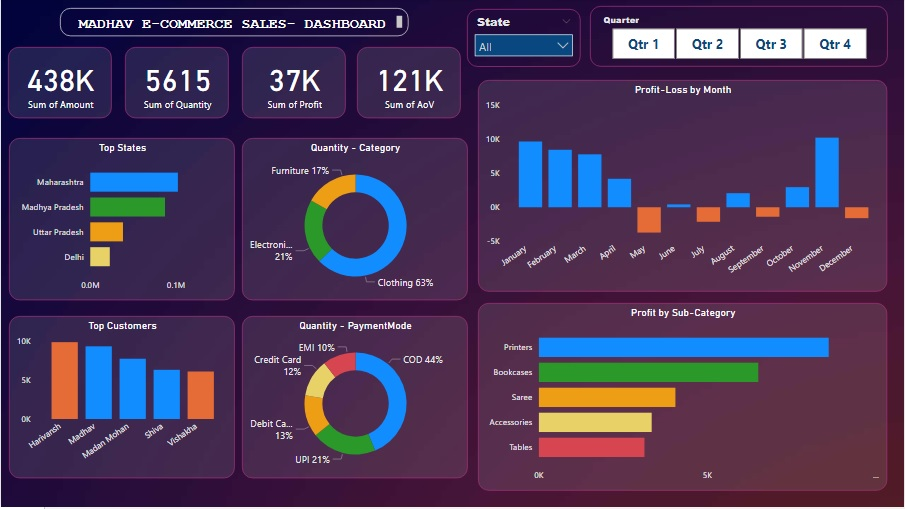

This screenshot's page, from the dashboard's own definition file:
{"tool":"powerbi","page":{"name":"Page 1","canvas":[1280,720],"ordinal":0},"visuals":[{"type":"textbox","box":[84.3,13.4,494.4,40.2],"z":0},{"type":"columnChart","title":"Profit-Loss by Month","fields":{"Y":["Details.Profit"],"Category":["Orders.Order Date.Variation.Date Hierarchy.Month"]},"box":[676.1,114.8,579.7,300.5],"z":1000},{"type":"barChart","title":"Profit by Sub-Category","fields":{"Category":["Details.Sub-Category"],"Y":["Details.Profit"]},"box":[676.1,430.9,579.7,266.5],"z":2000},{"type":"donutChart","title":"Quantity - Category","fields":{"Category":["Details.Category"],"Y":["Details.Quantity"]},"box":[341,196.8,320,230],"z":3000},{"type":"donutChart","title":"Quantity - PaymentMode","fields":{"Y":["Details.Quantity"],"Category":["Details.PaymentMode"]},"box":[341,449.2,320,230],"z":4000},{"type":"card","fields":{"Values":["Details.Amount"]},"box":[10.5,67.6,147.2,100.7],"z":5000},{"type":"card","fields":{"Values":["Details.Quantity"]},"box":[175.8,67.6,147.2,100.7],"z":6000},{"type":"card","fields":{"Values":["Details.Profit"]},"box":[341,67.6,147.2,100.7],"z":7000},{"type":"card","fields":{"Values":["Details.AoV"]},"box":[504.8,67.6,147.2,100.7],"z":8000},{"type":"barChart","title":"Top States","fields":{"Category":["Orders.State"],"Y":["Details.Amount"]},"box":[11.3,197,320,230],"z":9000},{"type":"columnChart","title":"Top Customers","fields":{"Category":["Orders.CustomerName"],"Y":["Details.Amount"]},"box":[11,449,320,230],"z":10000},{"type":"slicer","fields":{"Values":["Orders.Order Date.Variation.Date Hierarchy.Quarter"]},"box":[835.4,9.6,421.6,86.2],"z":11000},{"type":"slicer","fields":{"Values":["Orders.State"]},"box":[661,14,161,82.4],"z":12000}]}

Visuals, with their boxes in screenshot pixels (x1, y1, x2, y2), scaled from the page's 1280x720 canvas onto the 905x509 screenshot:
textbox: select_region(60, 9, 409, 38)
"Profit-Loss by Month" columnChart: select_region(478, 81, 888, 294)
"Profit by Sub-Category" barChart: select_region(478, 305, 888, 493)
"Quantity - Category" donutChart: select_region(241, 139, 467, 302)
"Quantity - PaymentMode" donutChart: select_region(241, 318, 467, 480)
card - Details.Amount: select_region(7, 48, 111, 119)
card - Details.Quantity: select_region(124, 48, 228, 119)
card - Details.Profit: select_region(241, 48, 345, 119)
card - Details.AoV: select_region(357, 48, 461, 119)
"Top States" barChart: select_region(8, 139, 234, 302)
"Top Customers" columnChart: select_region(8, 317, 234, 480)
slicer - Orders.Order Date.Variation.Date Hierarchy.Quarter: select_region(591, 7, 889, 68)
slicer - Orders.State: select_region(467, 10, 581, 68)
